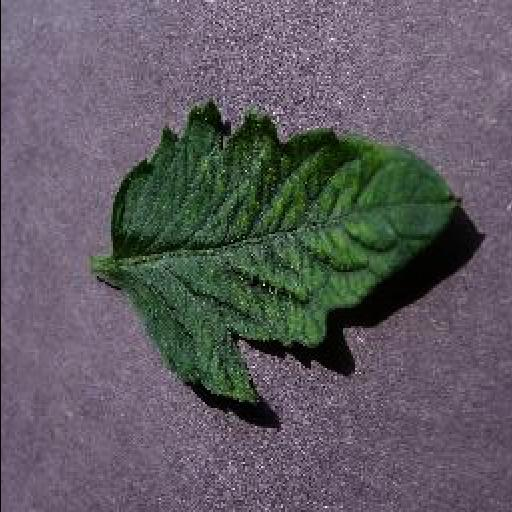disease_tomato: (113, 102, 467, 406)
